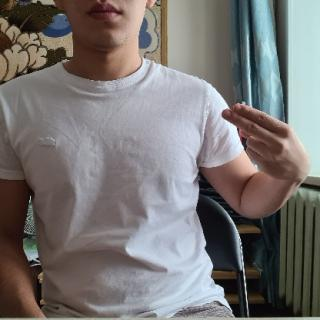AYN: (218, 102, 315, 183)
